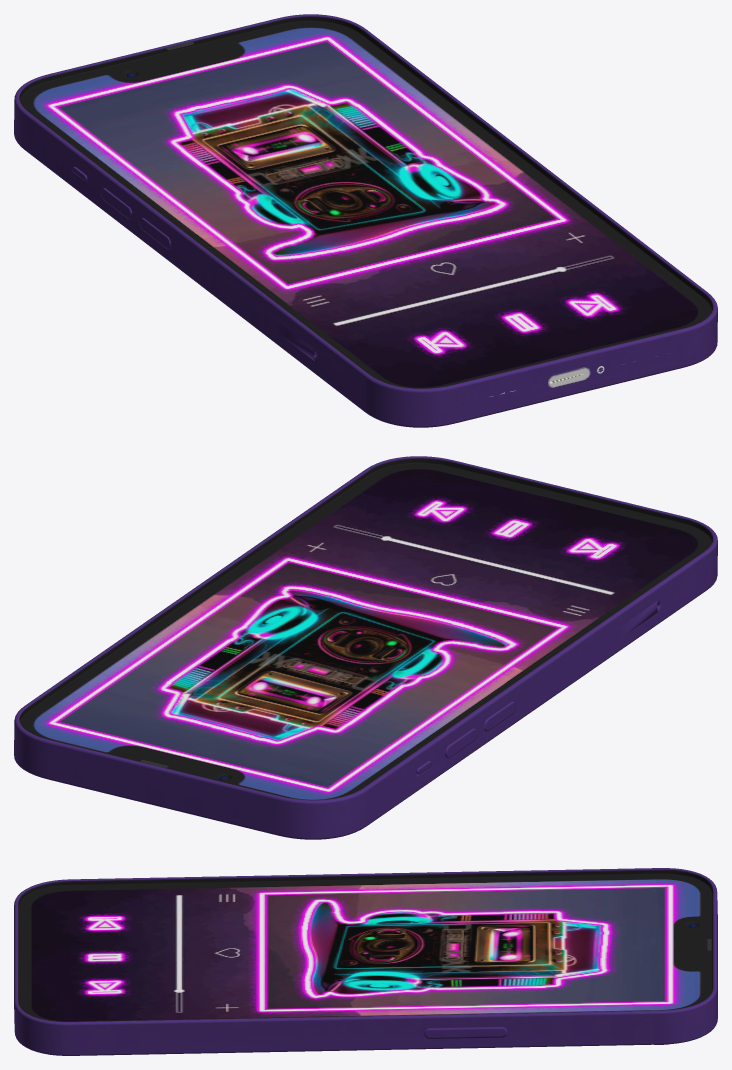
Rendered from Smartphone.fbx.
3 views of the same model, one above another, from view 1: azimuth 30°, elevation 25°; view 2: azimuth 150°, elevation 25°; view 3: azimuth 270°, elevation 25° (orthographic). The views are drawn at different scales.
Parts seen in each view (by area): view 1: Smartphone; view 2: Smartphone; view 3: Smartphone.
Boxes of the visible parts, x1,y1,x2,y2 form: Smartphone: [14, 14, 717, 427]; Smartphone: [14, 456, 717, 839]; Smartphone: [14, 868, 717, 1055].
Bounding box in the file's own units: 7.22 × 1.08 × 14.68.
Materials: 1 (1 with a texture image).
